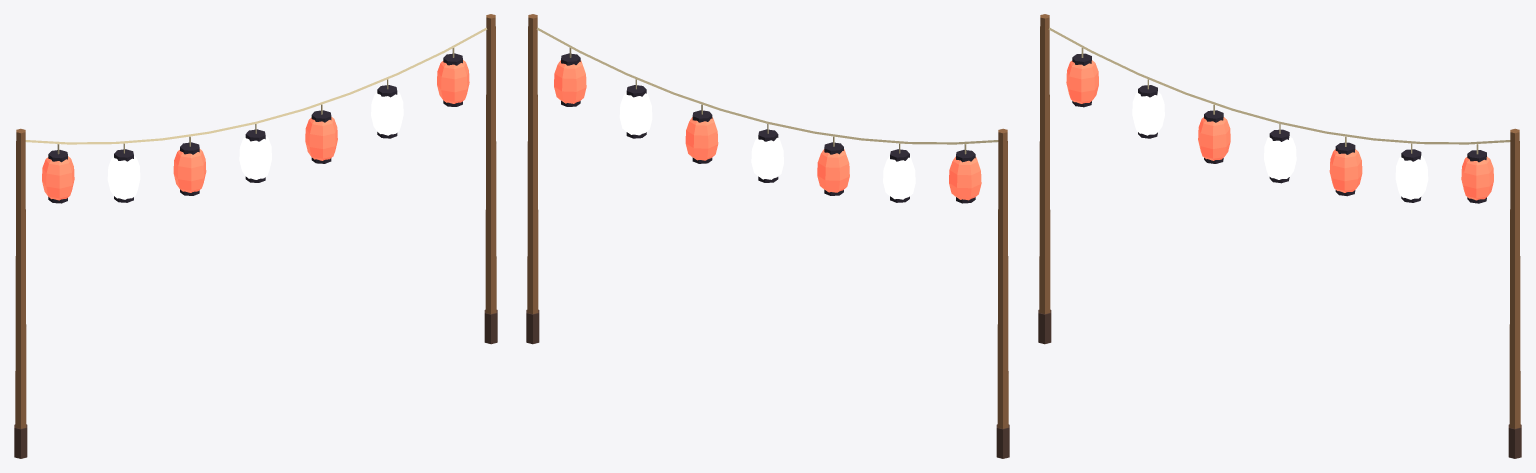
The model's file is lantern_string.glb.
3 renders of one model, left to right at view 1: azimuth 30°, elevation 25°; view 2: azimuth 150°, elevation 25°; view 3: azimuth 330°, elevation 25°, orthographic.
Parts seen in each view (by area): view 1: lantern_string; view 2: lantern_string; view 3: lantern_string.
Part boxes in pixels (box(x1,y1,x2,y2)): lantern_string: box(14, 14, 497, 458); lantern_string: box(526, 14, 1009, 458); lantern_string: box(1038, 14, 1521, 458).
Bounding box in the file's own units: 5.14 × 3.3 × 0.2947.
